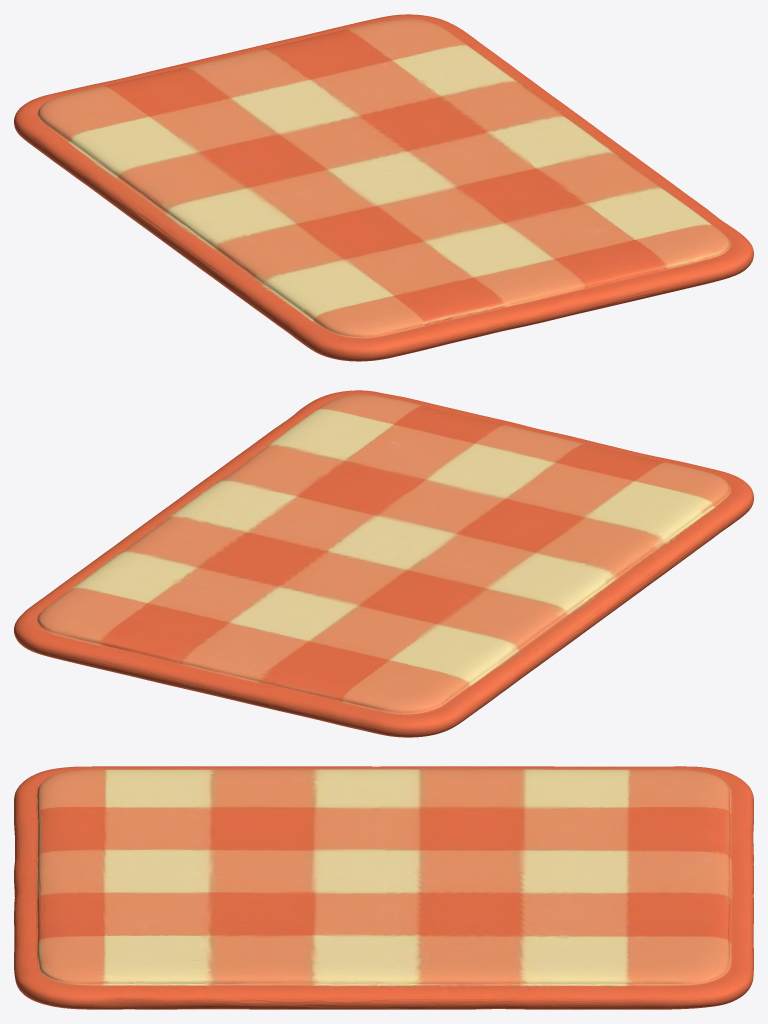
3 renders of one model, top to bottom at view 1: azimuth 30°, elevation 25°; view 2: azimuth 150°, elevation 25°; view 3: azimuth 270°, elevation 25°, orthographic. The views are drawn at different scales.
Visible parts, largest first — view 1: tripo_node_d588c9a9-c280-4587-a42f-455a7acbc0f7; view 2: tripo_node_d588c9a9-c280-4587-a42f-455a7acbc0f7; view 3: tripo_node_d588c9a9-c280-4587-a42f-455a7acbc0f7.
Boxes of the visible parts, left/top/right/bottom form: tripo_node_d588c9a9-c280-4587-a42f-455a7acbc0f7: left=14, top=14, right=753, bottom=361; tripo_node_d588c9a9-c280-4587-a42f-455a7acbc0f7: left=14, top=390, right=753, bottom=737; tripo_node_d588c9a9-c280-4587-a42f-455a7acbc0f7: left=14, top=766, right=753, bottom=1009.
Size of the model in its own units: 0.717 by 0.058 by 0.9793.
1 material, 1 textured.
